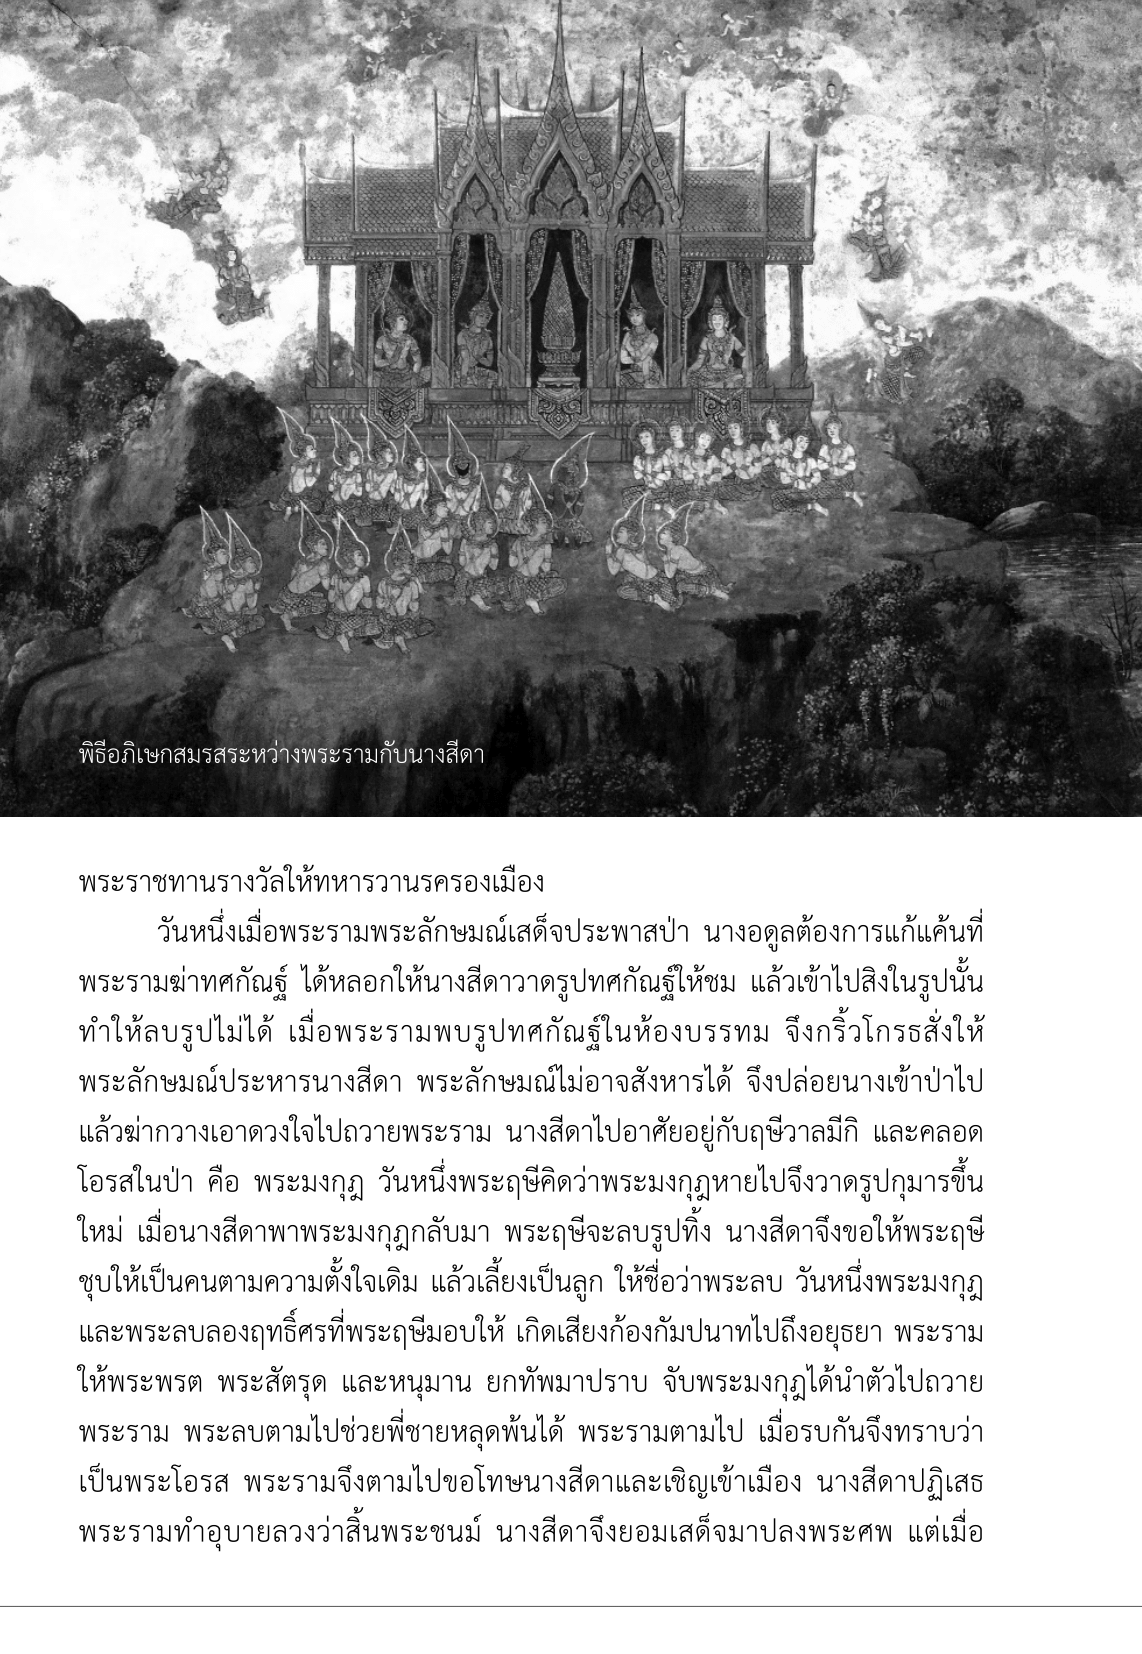thai: (74, 902, 991, 1154), (73, 1158, 991, 1357), (74, 1360, 987, 1556), (74, 726, 487, 770), (73, 861, 547, 894)
